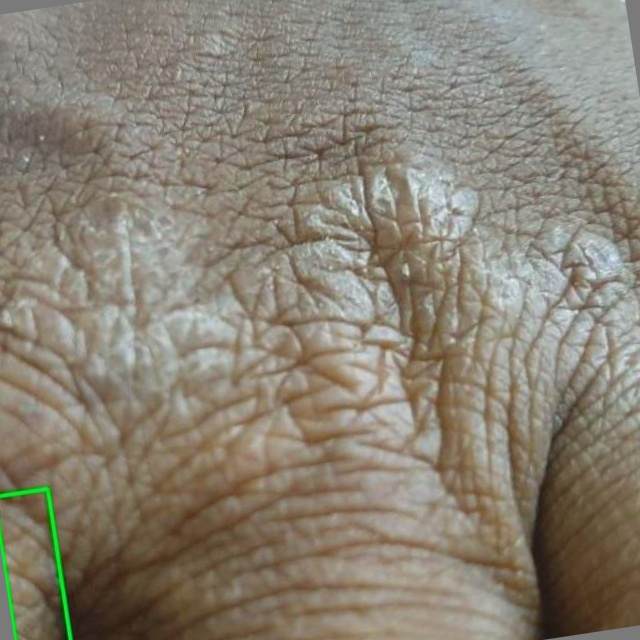Contact Dermatitis: (0, 488, 70, 639)
